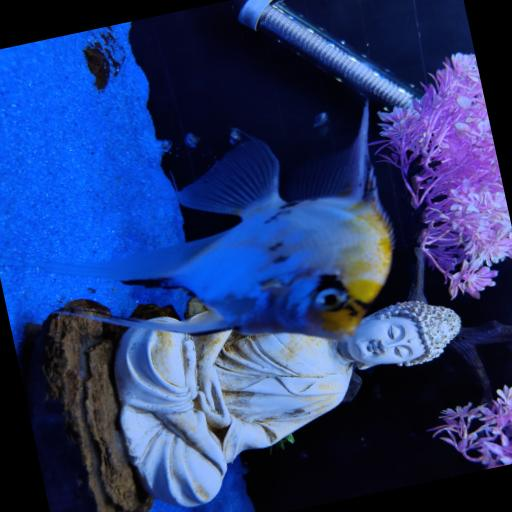Fish: (35, 103, 392, 339)
